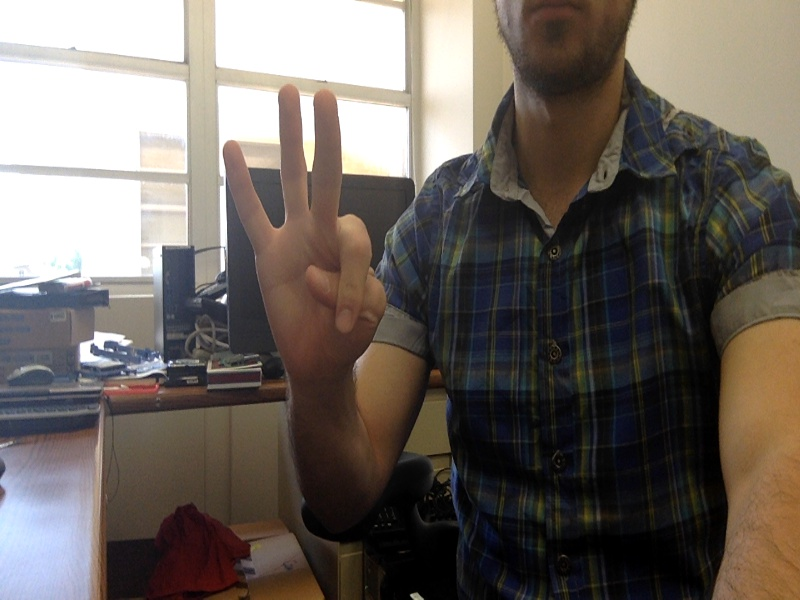3-hand: (220, 82, 390, 374)
